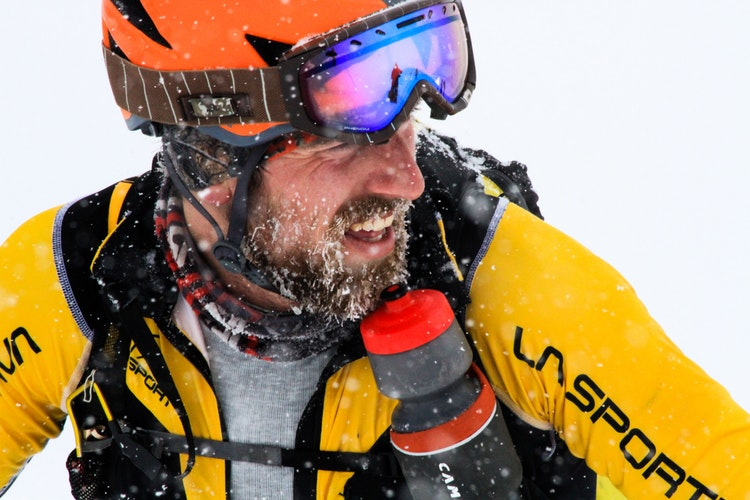helmet: (96, 4, 490, 154)
